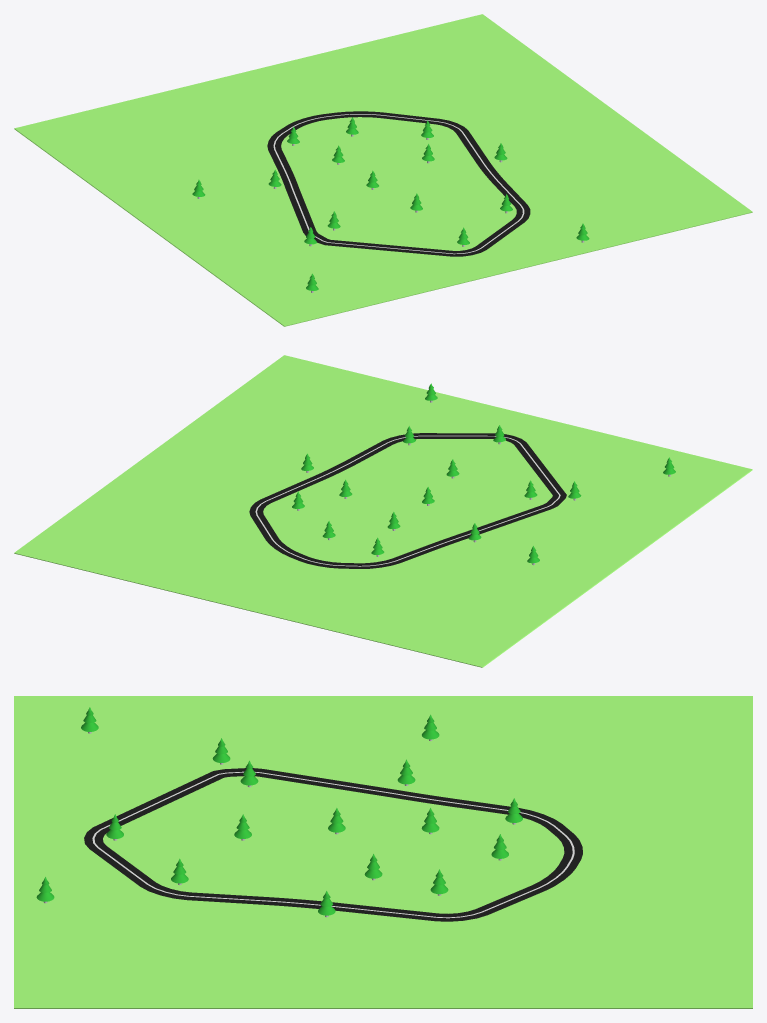
Rendered from racemap.fbx.
The picture shows the model from 3 angles, top to bottom: view 1: azimuth 30°, elevation 25°; view 2: azimuth 150°, elevation 25°; view 3: azimuth 270°, elevation 25°; orthographic projection. The views are drawn at different scales.
Parts seen in each view (by area): view 1: Cube, track; view 2: Cube, track; view 3: Cube, track.
Part boxes in pixels (x1,y1,x2,y2): Cube: [14, 14, 752, 326]; track: [267, 111, 530, 256]; Cube: [14, 355, 752, 667]; track: [249, 433, 566, 568]; Cube: [14, 696, 752, 1008]; track: [84, 768, 582, 921].
Bounding box in the file's own units: 35581 × 1473 × 35548.
